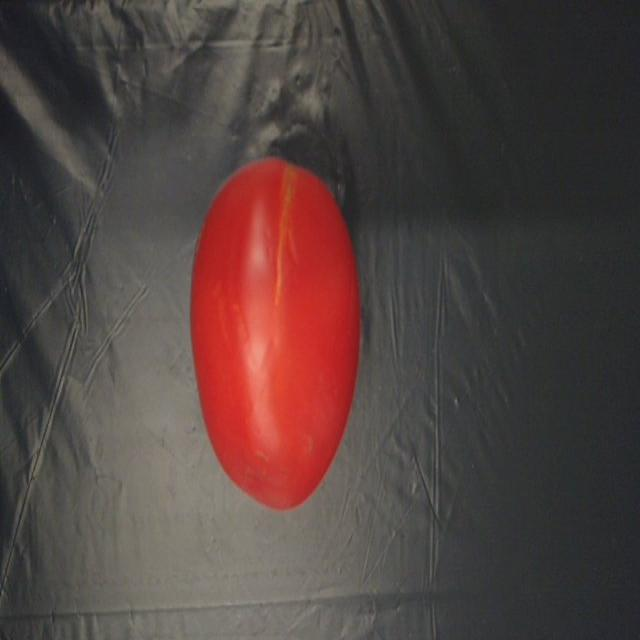kirmizi: (187, 154, 370, 518)
